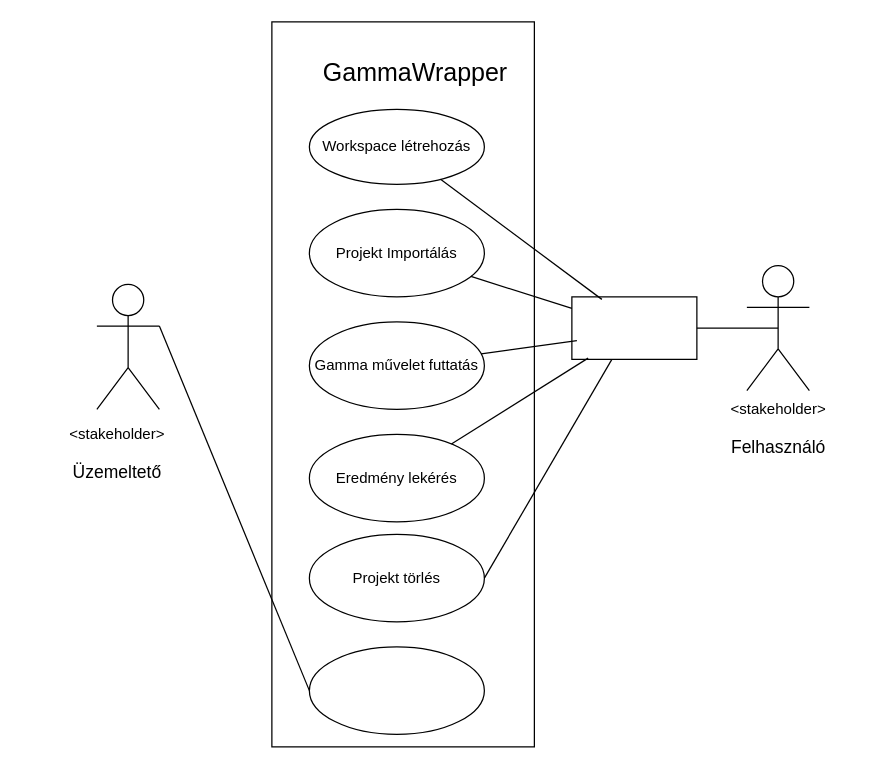
Image size: 895x769. Some labels were removed from this diagram. Here are the shapes that lost their labels. From the top down, the centre of each, then its label:
the point at 634,327: Client
the point at 396,690: Karbantartás
